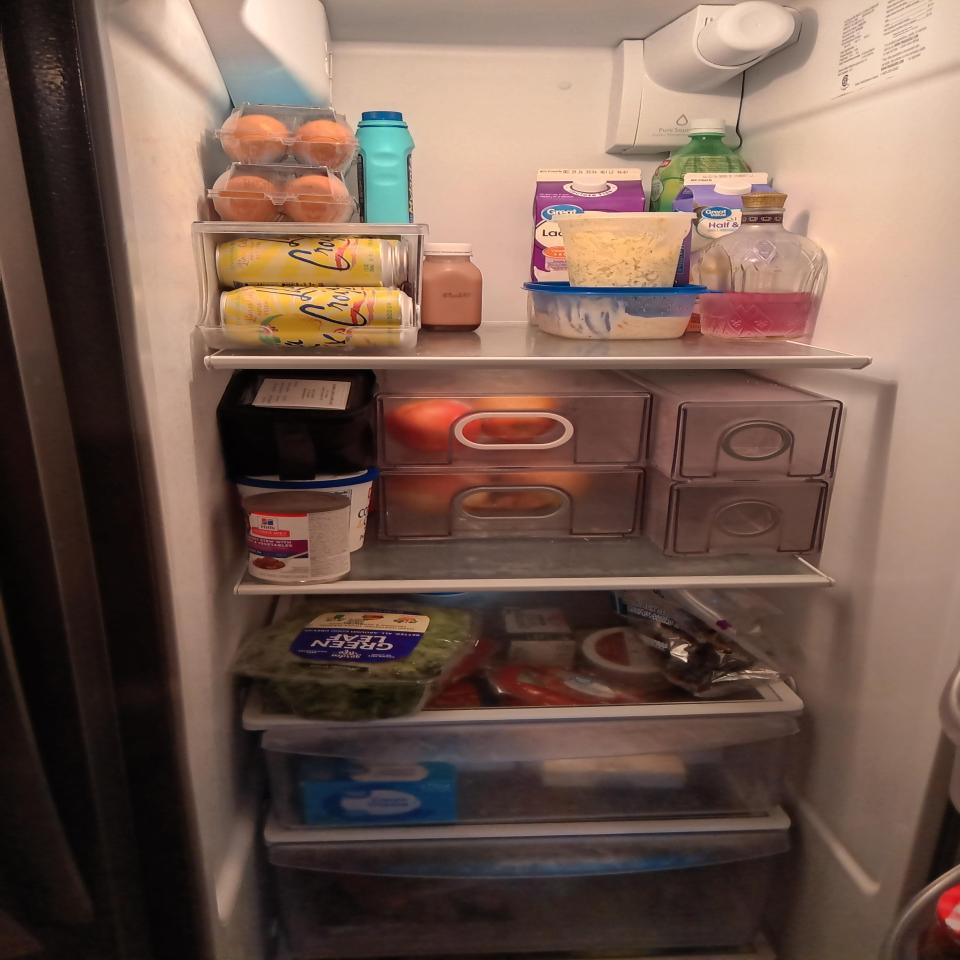Huevos: (213, 102, 361, 172), (206, 162, 359, 223)
Manzana: (386, 398, 480, 453), (476, 394, 560, 442)
